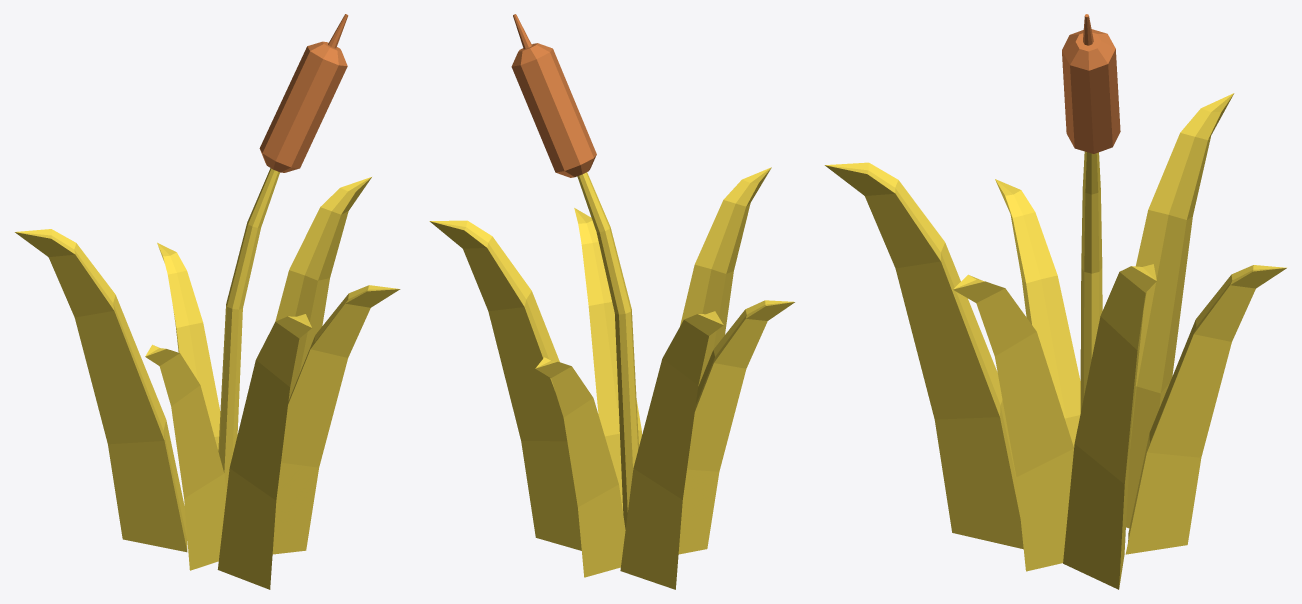
Rendered from reeds_02.fbx.
3 renders of one model, left to right at view 1: azimuth 30°, elevation 25°; view 2: azimuth 150°, elevation 25°; view 3: azimuth 270°, elevation 25°, orthographic. The views are drawn at different scales.
Parts seen in each view (by area): view 1: reeds_02; view 2: reeds_02; view 3: reeds_02.
Boxes of the visible parts, x1,y1,x2,y2 form: reeds_02: [15, 14, 400, 589]; reeds_02: [429, 14, 794, 589]; reeds_02: [824, 14, 1286, 589].
Bounding box in the file's own units: 101 × 150 × 105.
